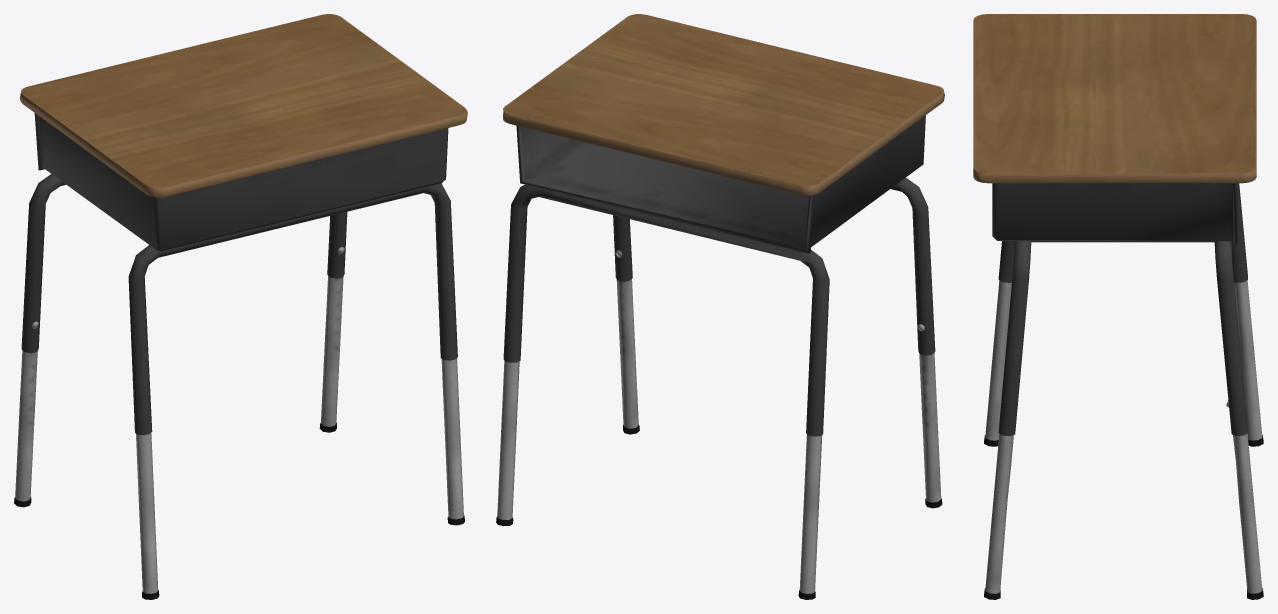
Rendered from SchoolDesk_01.glb.
3 views of the same model, side by side, from view 1: azimuth 30°, elevation 25°; view 2: azimuth 150°, elevation 25°; view 3: azimuth 270°, elevation 25° (orthographic). The views are drawn at different scales.
Visible parts, largest first — view 1: SchoolDesk_01; view 2: SchoolDesk_01; view 3: SchoolDesk_01.
Boxes of the visible parts, x1,y1,x2,y2 form: SchoolDesk_01: [14, 14, 467, 599]; SchoolDesk_01: [496, 14, 944, 599]; SchoolDesk_01: [973, 14, 1263, 599].
Size of the model in its own units: 0.7102 by 0.8826 by 0.5438.
Materials: 1 (1 with a texture image).
